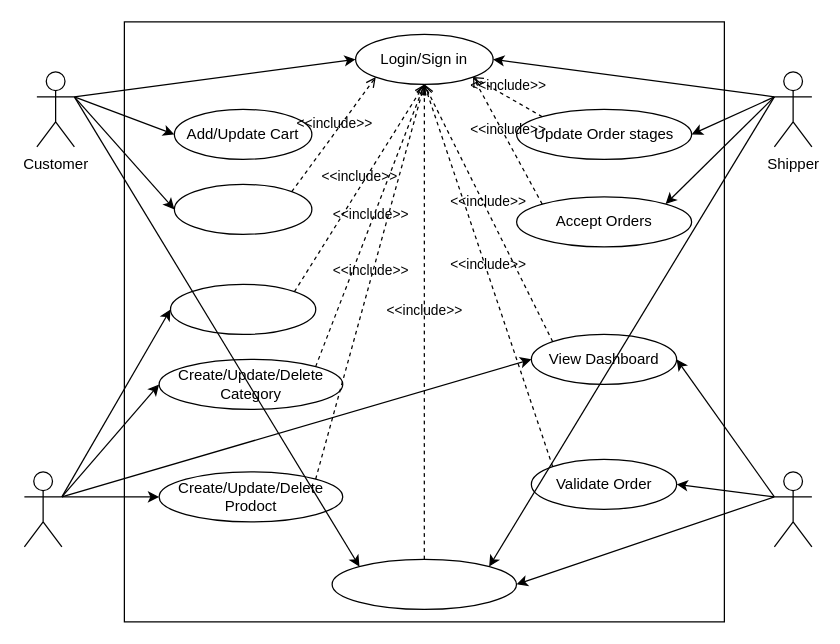
The diagram is 840 pixels wide and 644 high, and some of its shapes have lost their labels. Each missing label, with the box of its shape:
Add Order: (173, 183, 312, 234)
Admin: (23, 471, 62, 547)
Block account: (169, 283, 316, 334)
Review/Update Profile: (331, 558, 516, 609)
Seller: (773, 471, 812, 547)
